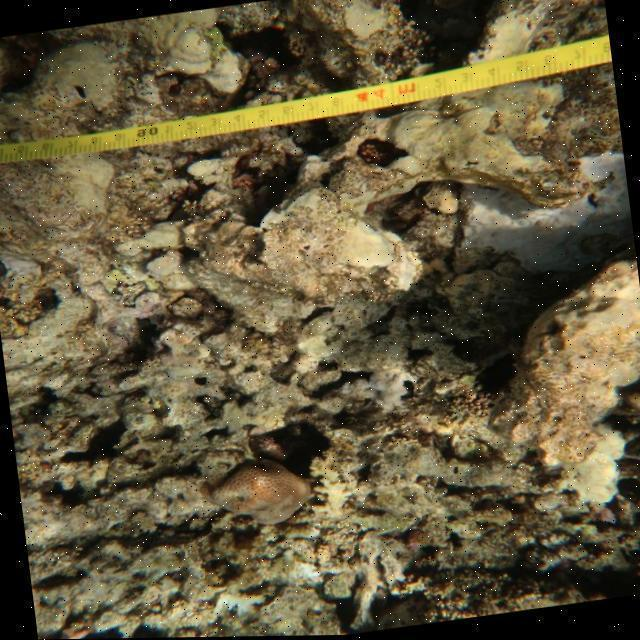Dead Coral: (193, 461, 314, 529)
